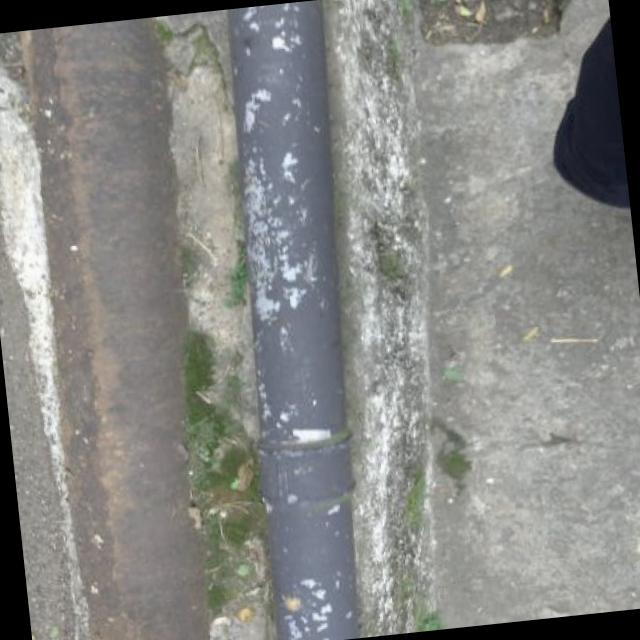gas: (23, 18, 207, 640), (227, 0, 351, 640)
